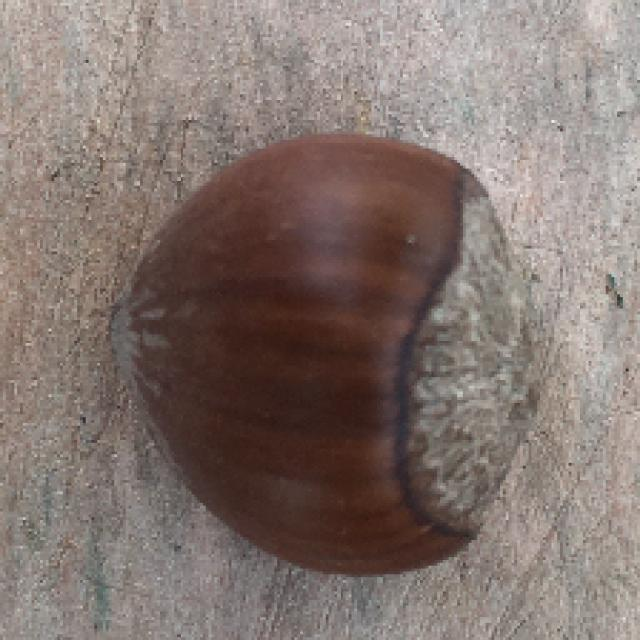damagedHazelnut: (103, 124, 541, 576)
